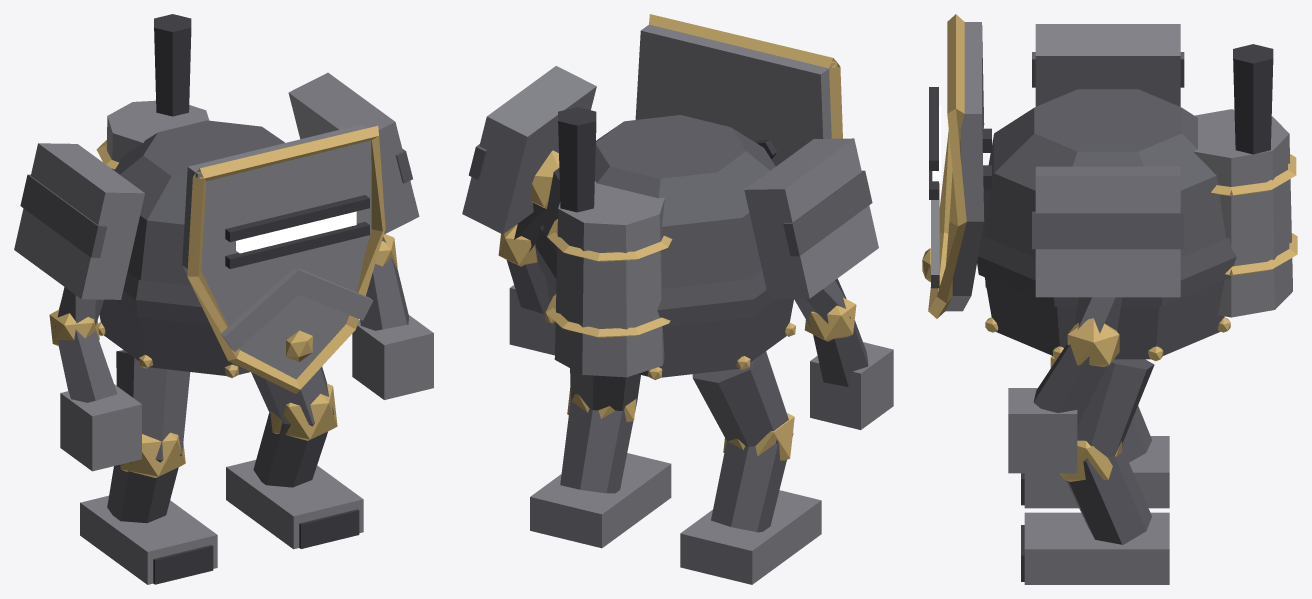
The model's file is engine-sentinel.glb.
3 renders of one model, left to right at view 1: azimuth 30°, elevation 25°; view 2: azimuth 150°, elevation 25°; view 3: azimuth 270°, elevation 25°, orthographic. The views are drawn at different scales.
Parts seen in each view (by area): view 1: sentinel_body; view 2: sentinel_body; view 3: sentinel_body.
Part boxes in pixels (left/top/right/bottom): sentinel_body: left=14, top=14, right=433, bottom=584; sentinel_body: left=462, top=14, right=893, bottom=584; sentinel_body: left=922, top=14, right=1297, bottom=584.
Size of the model in its own units: 0.5851 by 0.74 by 0.5174.
